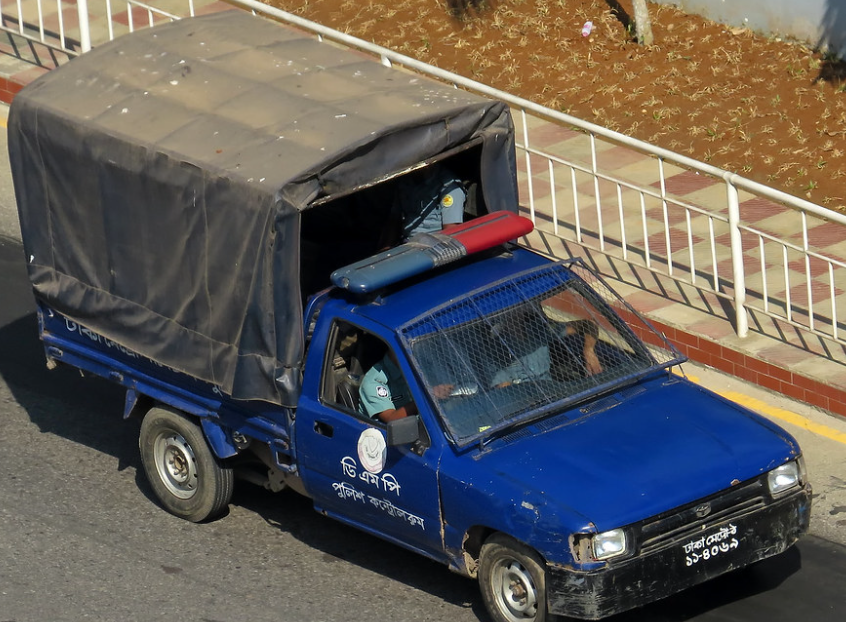Police cars: (17, 9, 822, 622)
